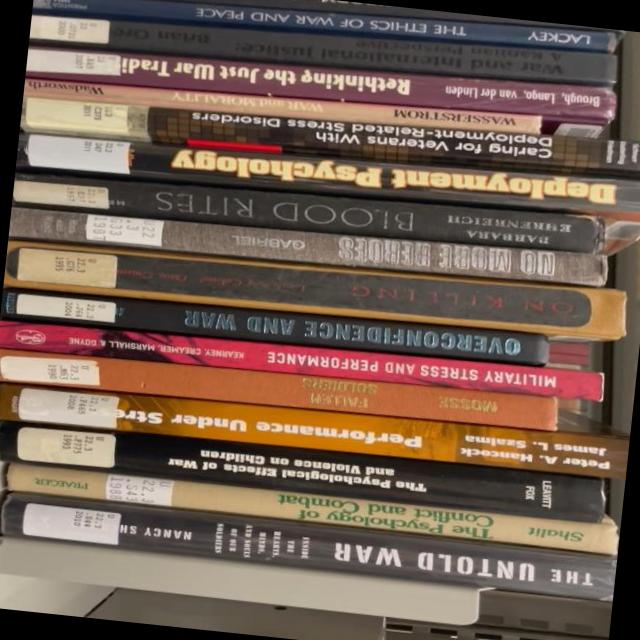book: (0, 490, 617, 601), (0, 415, 605, 524), (1, 239, 628, 344), (0, 381, 629, 479), (5, 463, 618, 555), (16, 133, 640, 220), (20, 97, 640, 179), (24, 40, 615, 125), (0, 318, 603, 401), (10, 171, 603, 254), (7, 206, 606, 287), (0, 348, 558, 431), (28, 13, 616, 87), (1, 287, 549, 366), (31, 0, 614, 54), (22, 78, 540, 136), (156, 0, 619, 49)
